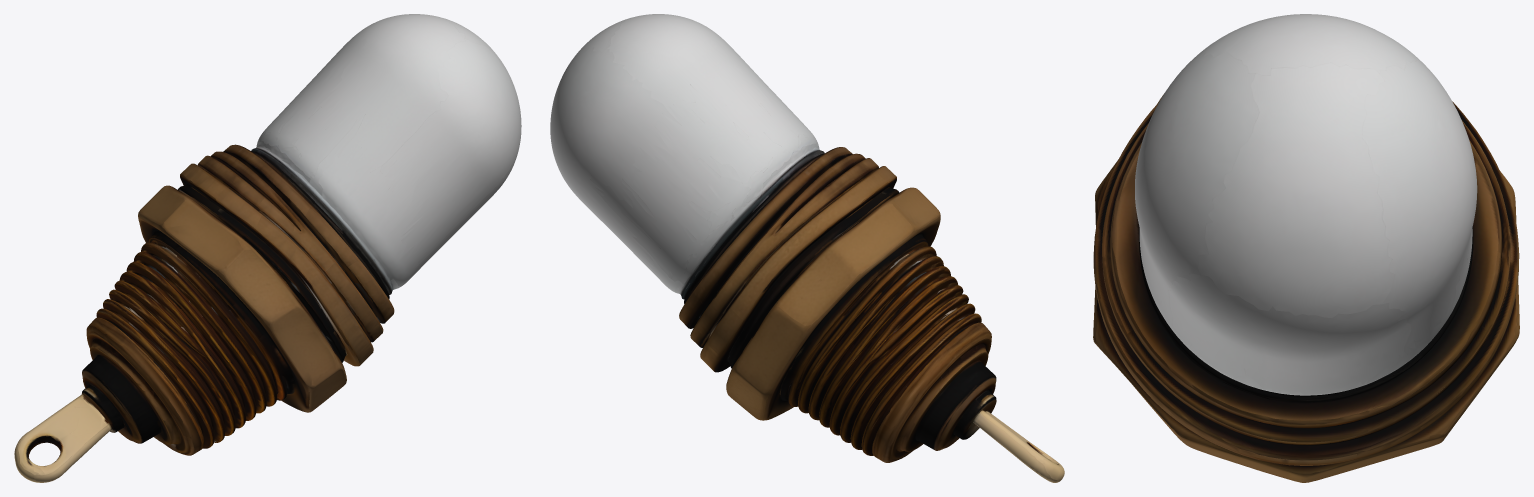
The model's file is light.glb.
3 views of the same model, side by side, from view 1: azimuth 30°, elevation 25°; view 2: azimuth 150°, elevation 25°; view 3: azimuth 270°, elevation 25° (orthographic). The views are drawn at different scales.
Parts seen in each view (by area): view 1: texture_pbr_v128; view 2: texture_pbr_v128; view 3: texture_pbr_v128.
Part boxes in pixels (left/top/right/bottom): texture_pbr_v128: left=14, top=14, right=521, bottom=482; texture_pbr_v128: left=550, top=14, right=1064, bottom=482; texture_pbr_v128: left=1093, top=14, right=1519, bottom=482.
Size of the model in its own units: 1 by 0.7159 by 0.4688.
1 material, 1 textured.
